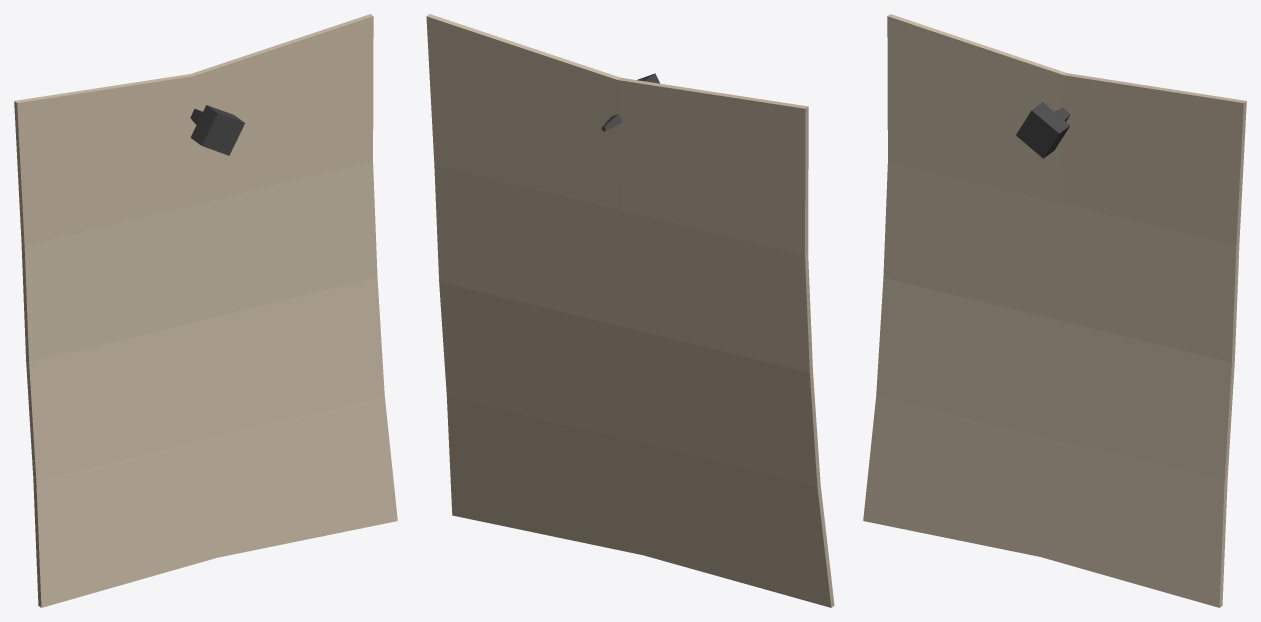
The model's file is Announcement_1.fbx.
3 views of the same model, side by side, from view 1: azimuth 30°, elevation 25°; view 2: azimuth 150°, elevation 25°; view 3: azimuth 330°, elevation 25° (orthographic). The views are drawn at different scales.
Parts seen in each view (by area): view 1: Announcement_1; view 2: Announcement_1; view 3: Announcement_1.
Part boxes in pixels (x1,y1,x2,y2): Announcement_1: (14, 14, 397, 607); Announcement_1: (426, 14, 834, 607); Announcement_1: (863, 14, 1246, 607).
Size of the model in its own units: 40.77 by 8.45 by 53.25.
